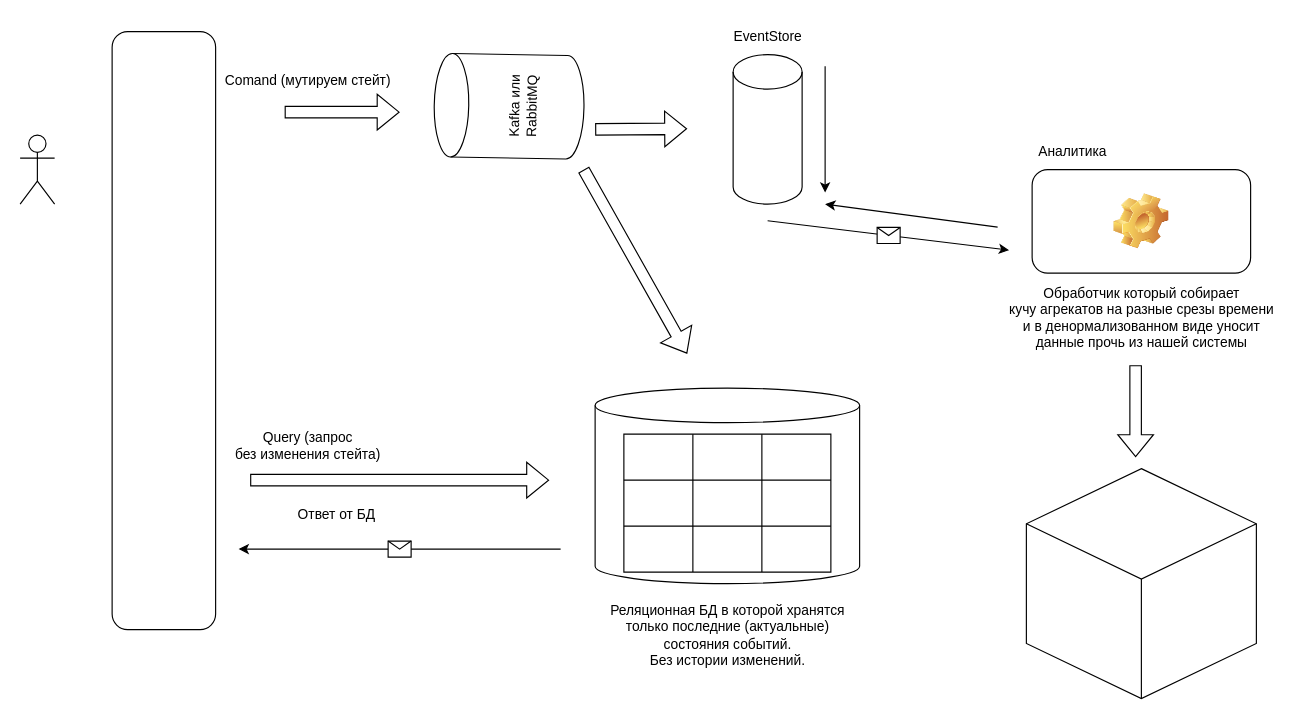
The diagram is 1294 pixels wide and 719 high, and some of its shapes have lost their labels. The shapes that lost their labels are listed below. From the top down, each one's centre as x and y in pixels, then its label:
At pixel 37 169: "Actor".
At pixel 163 330: "User Interface".
